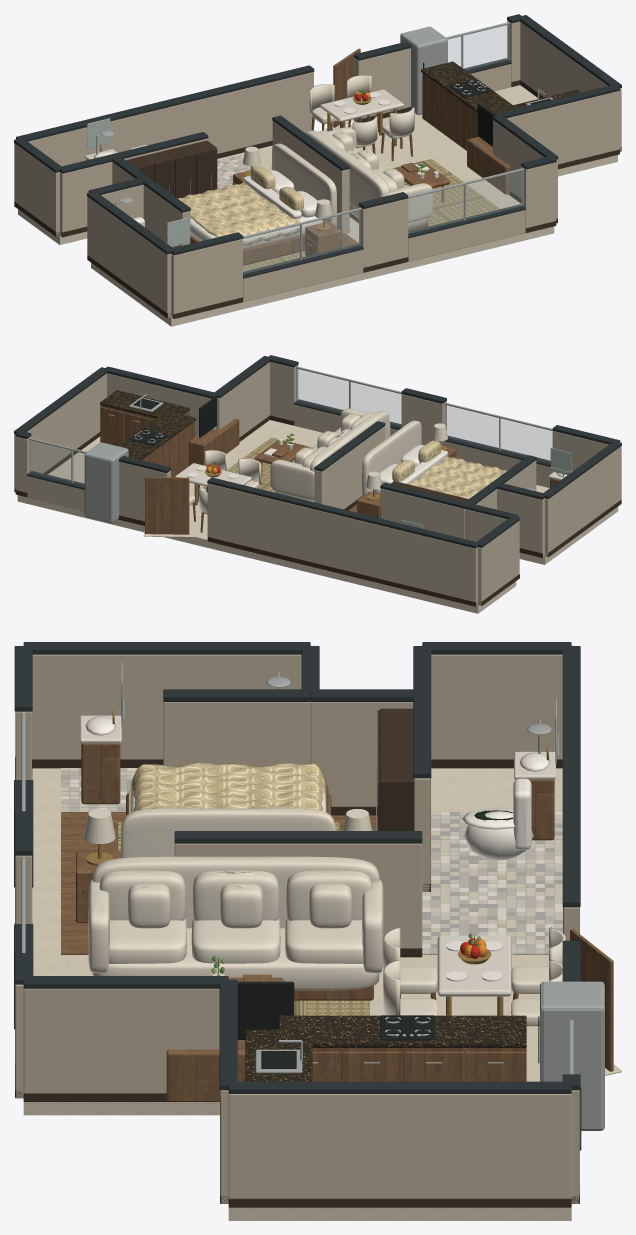
Rendered from aristo-05.glb.
The picture shows the model from 3 angles, top to bottom: view 1: azimuth 30°, elevation 25°; view 2: azimuth 150°, elevation 25°; view 3: azimuth 270°, elevation 25°; orthographic projection. The views are drawn at different scales.
Parts seen in each view (by area): view 1: Ivory masonry, Apartment foundation, Ivory masonry.009, Ivory masonry.004, Ivory masonry.008, Soft jacquard duvet with folds.003, Cutaway window glazing, Cutaway window glazing.001, Ivory masonry.003, Window sill, Window sill.001, Ivory masonry.007 (+55 smaller); view 2: Ivory masonry, Apartment foundation, Ivory masonry.009, Ivory masonry.003, Cutaway window glazing, Cutaway window glazing.001, Brushed refrigerator, Open walnut door leaf, Ivory masonry.017, Ivory masonry.016, Ivory masonry.005, Soft jacquard duvet with folds.003 (+52 smaller); view 3: Ivory masonry.003, Apartment foundation, Ivory masonry.005, Ivory masonry.009, Ivory masonry.013, Ivory masonry.014, Bathroom 2 · mosaic.001, Soft jacquard duvet with folds.003, Brushed refrigerator, Ivory masonry.017, Ivory masonry.011, Amber granite worktop (+67 smaller).
Boxes of the visible parts, box(x1,y1,x2,y2) form: Ivory masonry: box(28, 72, 313, 166); Apartment foundation: box(18, 85, 617, 326); Ivory masonry.009: box(87, 196, 171, 317); Ivory masonry.004: box(507, 91, 619, 164); Ivory masonry.008: box(171, 239, 242, 318); Soft jacquard duvet with folds.003: box(178, 182, 300, 245); Cutaway window glazing: box(243, 211, 359, 273); Cutaway window glazing.001: box(408, 171, 522, 233); Ivory masonry.003: box(520, 22, 621, 151); Window sill: box(243, 249, 363, 301); Window sill.001: box(408, 210, 525, 261); Ivory masonry.007: box(359, 198, 408, 267); Ivory masonry: box(207, 483, 477, 605); Apartment foundation: box(17, 420, 618, 613); Ivory masonry.009: box(545, 446, 621, 556); Ivory masonry.003: box(14, 373, 106, 492); Cutaway window glazing: box(445, 405, 552, 462); Cutaway window glazing.001: box(297, 369, 401, 425); Brushed refrigerator: box(84, 442, 128, 522); Open walnut door leaf: box(145, 477, 189, 534); Ivory masonry.017: box(314, 426, 384, 509); Ivory masonry.016: box(380, 488, 464, 538); Ivory masonry.005: box(216, 362, 269, 437); Soft jacquard duvet with folds.003: box(409, 456, 507, 498); Ivory masonry.003: box(228, 1093, 571, 1198); Apartment foundation: box(23, 768, 571, 1220); Ivory masonry.005: box(23, 988, 219, 1093); Ivory masonry.009: box(32, 654, 301, 759); Ivory masonry.013: box(431, 654, 562, 759); Ivory masonry.014: box(163, 701, 310, 766); Bathroom 2 · mosaic.001: box(422, 820, 548, 954); Soft jacquard duvet with folds.003: box(129, 763, 328, 813); Brushed refrigerator: box(540, 981, 604, 1130); Ivory masonry.017: box(174, 843, 422, 948); Ivory masonry.011: box(310, 701, 413, 806); Amber granite worktop: box(279, 1015, 526, 1047).
Bounding box in the file's own units: 9.28 × 1.37 × 5.33.
Materials: 24 (6 with a texture image).
